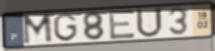3: (168, 7, 190, 37)
8: (82, 10, 106, 42)
E: (107, 8, 137, 41)
G: (52, 13, 80, 43)
M: (21, 12, 55, 46)
U: (135, 7, 165, 40)
